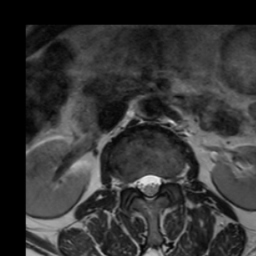CCS_normal: (145, 165, 154, 208)
LFS_stenosis: (163, 165, 174, 192)
LLS_normal: (154, 165, 163, 199)
RFS_stenosis: (127, 169, 135, 197)
RLS_normal: (135, 165, 145, 200)
